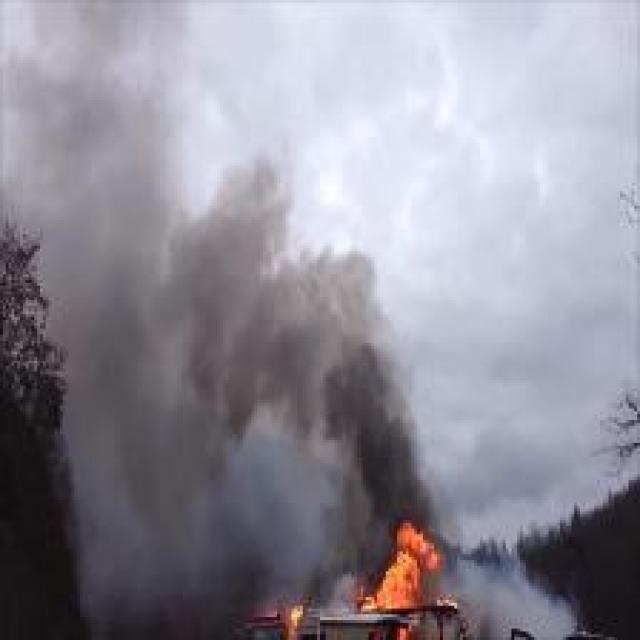fire: (337, 520, 445, 610)
smoke: (16, 102, 442, 513)
